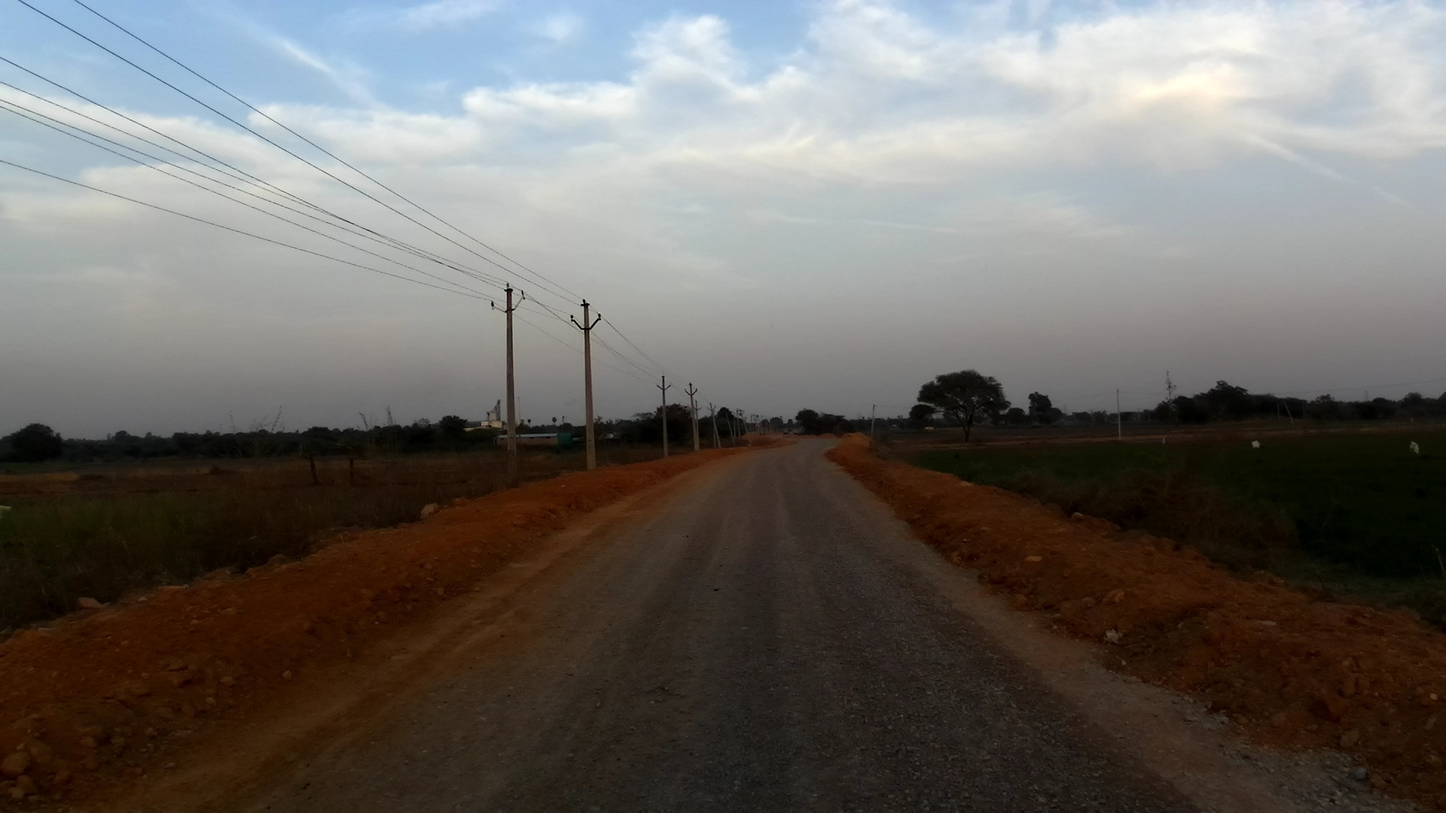vehicle fallback: (781, 428, 792, 437)
